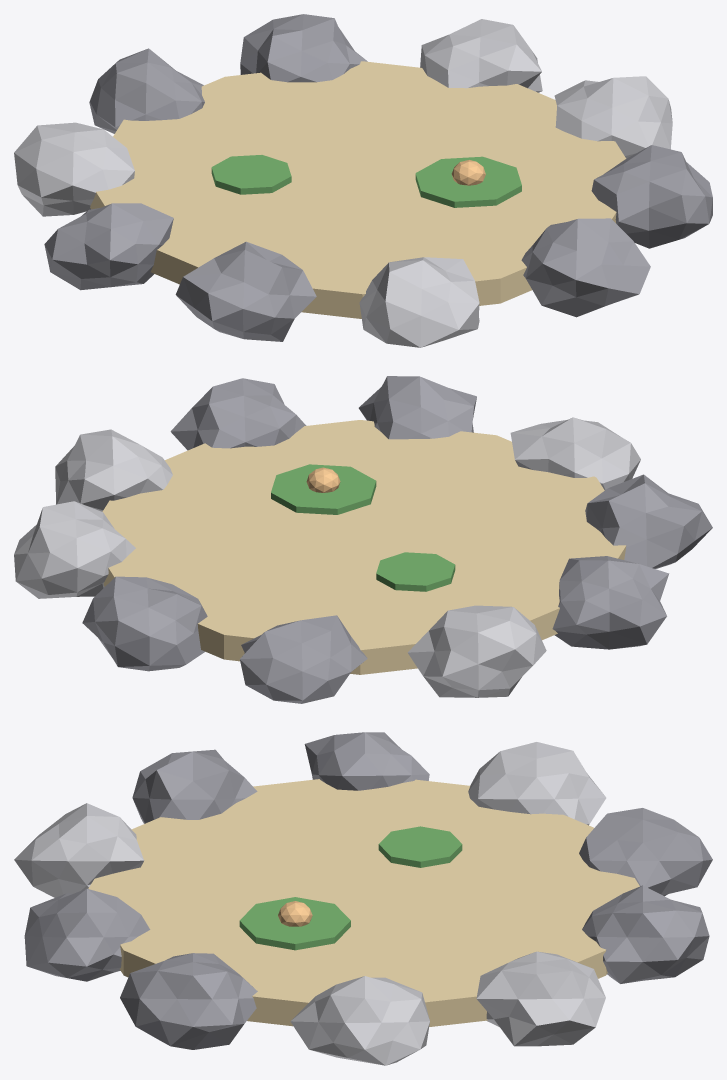
File: deco_pond.obj
3 views of the same model, one above another, from view 1: azimuth 30°, elevation 25°; view 2: azimuth 150°, elevation 25°; view 3: azimuth 270°, elevation 25° (orthographic). The views are drawn at different scales.
Visible parts, largest first — view 1: deco_pond; view 2: deco_pond; view 3: deco_pond.
Part boxes in pixels (bbox=[...]): deco_pond: bbox=[14, 14, 712, 347]; deco_pond: bbox=[14, 376, 712, 703]; deco_pond: bbox=[14, 732, 712, 1065].
Bounding box in the file's own units: 0.1037 × 0.015 × 0.1004.
Materials: 1 (1 with a texture image).
